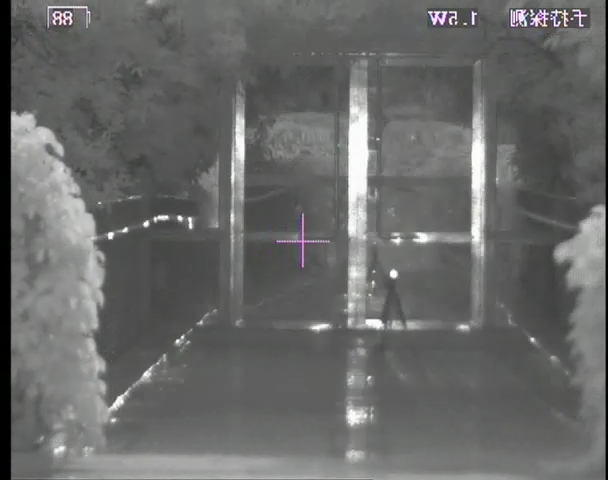my: (388, 268, 399, 281)
